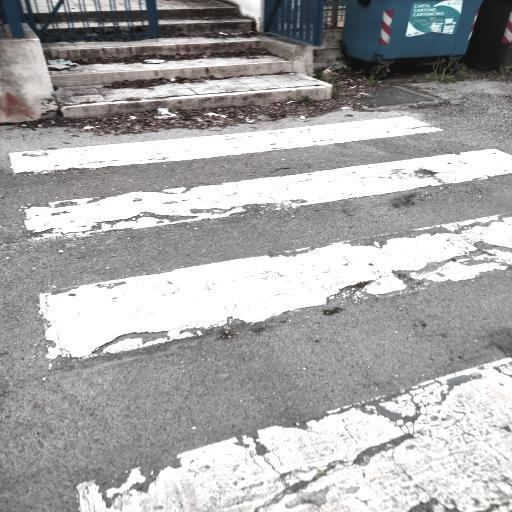crosswalk: (3, 115, 510, 241)
